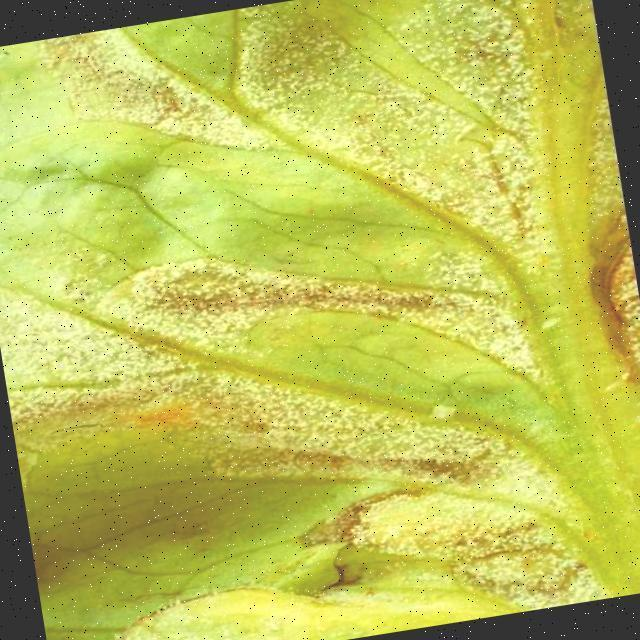Bad: (58, 35, 637, 593)
